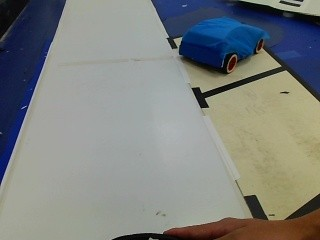car: (177, 17, 267, 74)
